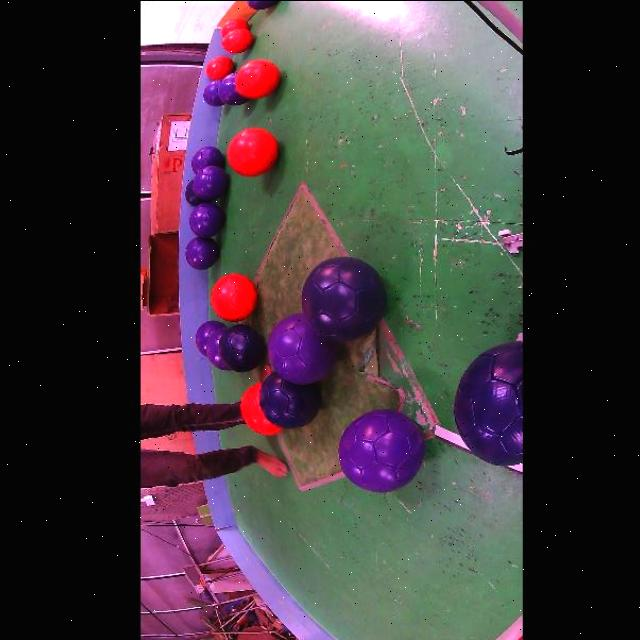B: (454, 341, 523, 466), (301, 256, 386, 341), (259, 371, 321, 428), (219, 323, 266, 371), (186, 179, 206, 205)
P: (339, 409, 426, 492), (268, 313, 339, 383), (190, 201, 224, 237), (194, 164, 228, 200), (186, 236, 219, 269), (218, 71, 251, 104), (195, 319, 225, 355), (206, 326, 229, 370), (191, 145, 224, 173), (203, 79, 224, 106), (247, 0, 278, 9)
R: (228, 127, 279, 176), (211, 273, 258, 321), (240, 382, 282, 434), (235, 58, 280, 98), (222, 27, 254, 52), (206, 55, 234, 79), (222, 18, 249, 36)
